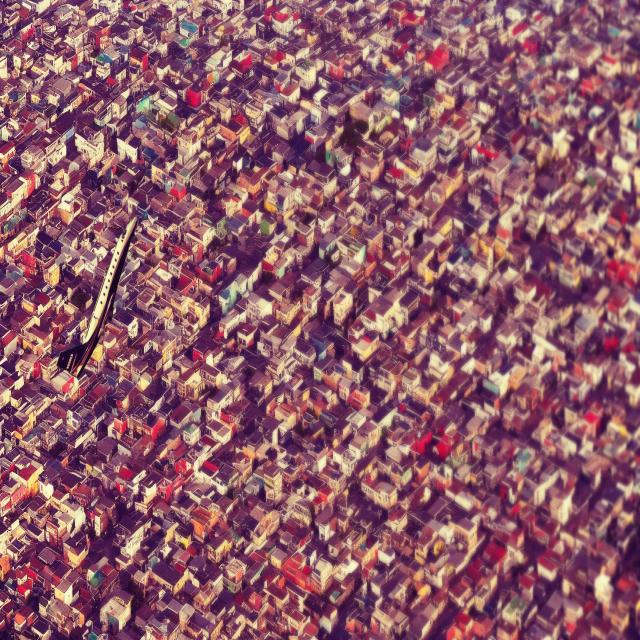airplane: (53, 214, 138, 379)
